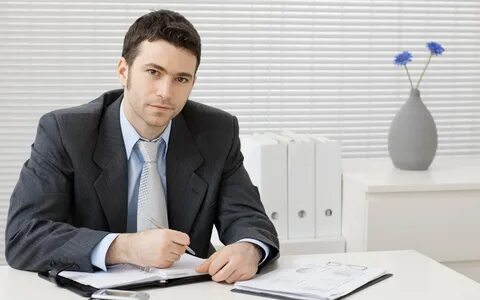awake: (5, 9, 270, 280)
